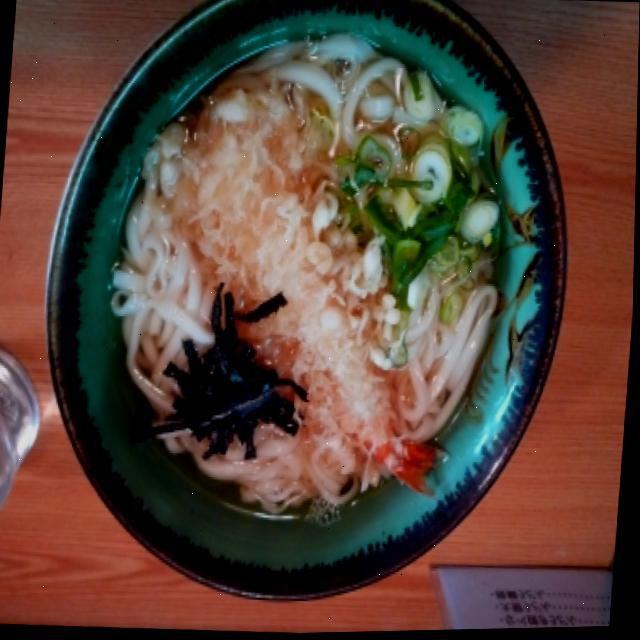面条主食: (81, 25, 520, 556)
